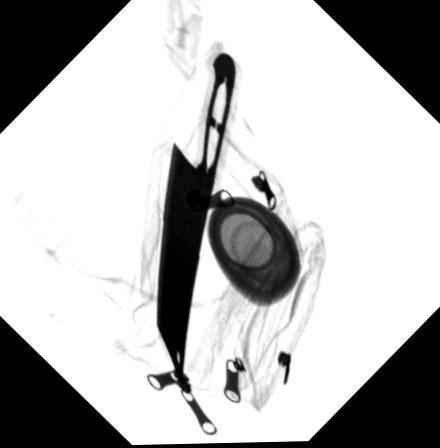Knife: (154, 50, 238, 395)
